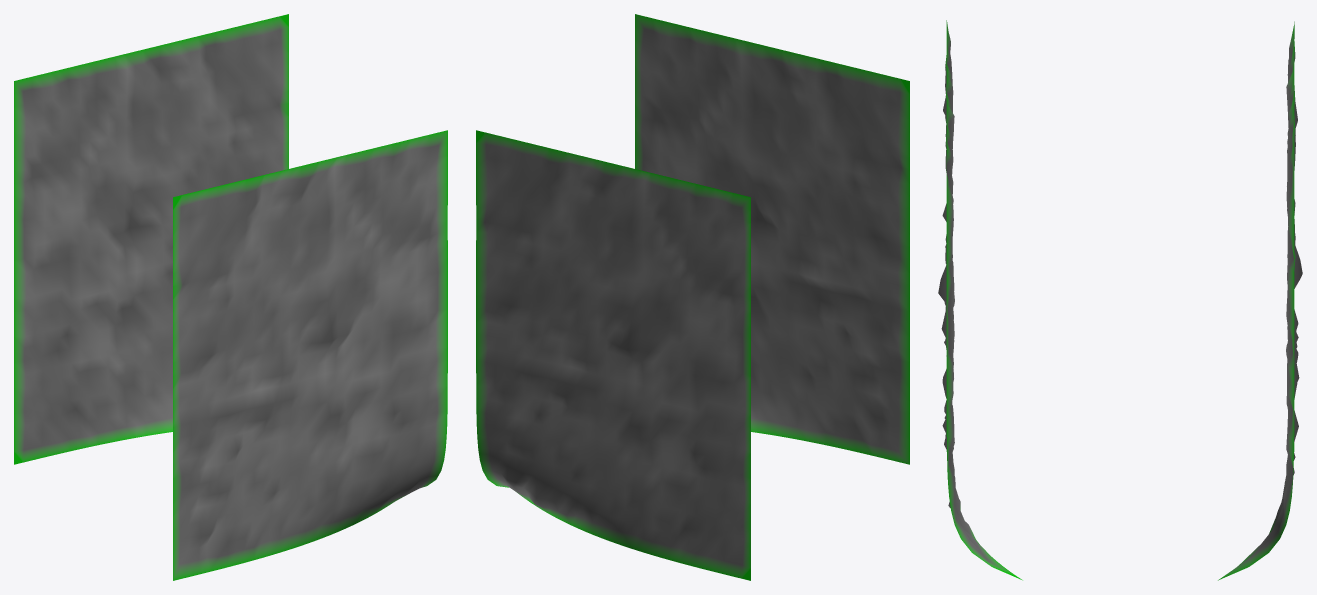
The model's file is SM_LabyrinthTile_StraightenTopA.fbx.
3 views of the same model, side by side, from view 1: azimuth 30°, elevation 25°; view 2: azimuth 150°, elevation 25°; view 3: azimuth 270°, elevation 25° (orthographic). The views are drawn at different scales.
Parts seen in each view (by area): view 1: transform16; view 2: transform16; view 3: transform16.
Boxes of the visible parts, x1,y1,x2,y2 form: transform16: (14, 14, 447, 580); transform16: (476, 14, 909, 580); transform16: (938, 20, 1302, 580).
Bounding box in the file's own units: 300 × 400 × 315.
